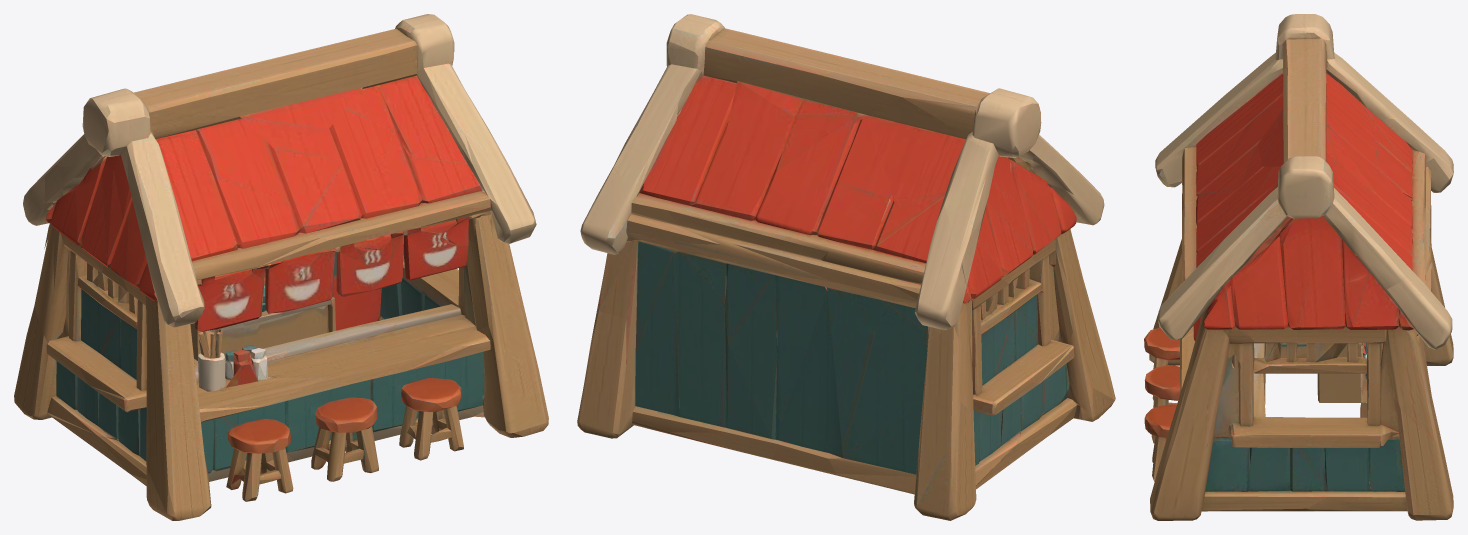
Rendered from tavernStall.glb.
3 renders of one model, left to right at view 1: azimuth 30°, elevation 25°; view 2: azimuth 150°, elevation 25°; view 3: azimuth 270°, elevation 25°, orthographic. The views are drawn at different scales.
Parts seen in each view (by area): view 1: Mesh_0; view 2: Mesh_0; view 3: Mesh_0.
Boxes of the visible parts, x1,y1,x2,y2 form: Mesh_0: [14, 14, 548, 520]; Mesh_0: [577, 14, 1115, 520]; Mesh_0: [1144, 14, 1453, 520].
Size of the model in its own units: 3 by 2.69 by 2.22.
1 material, 1 textured.
